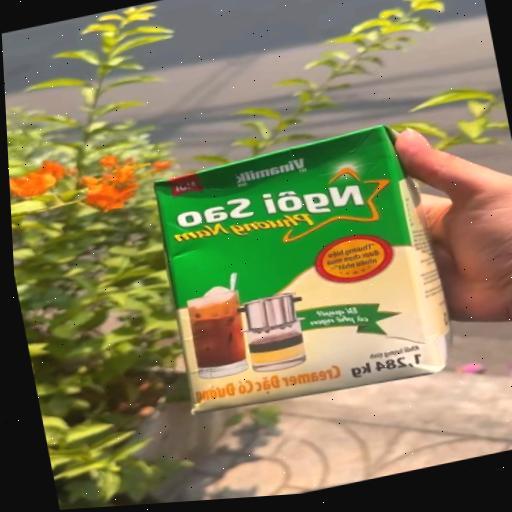ly_giay: (157, 126, 450, 413)
